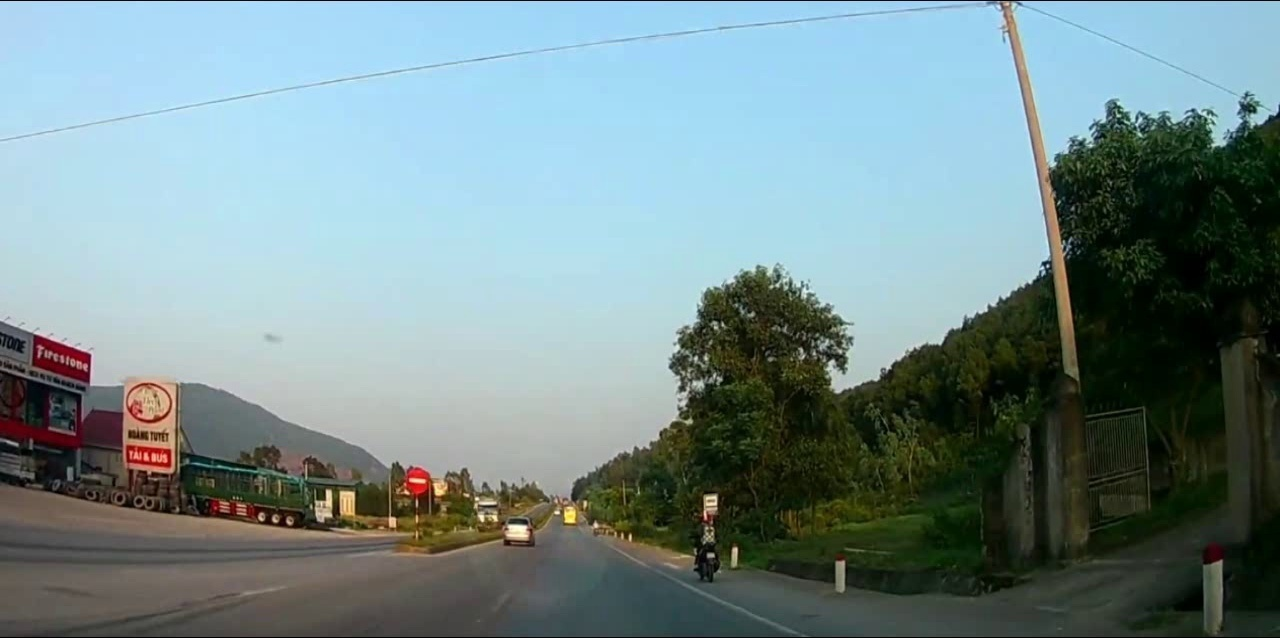Cam di nguoc chieu: (404, 465, 430, 495)
